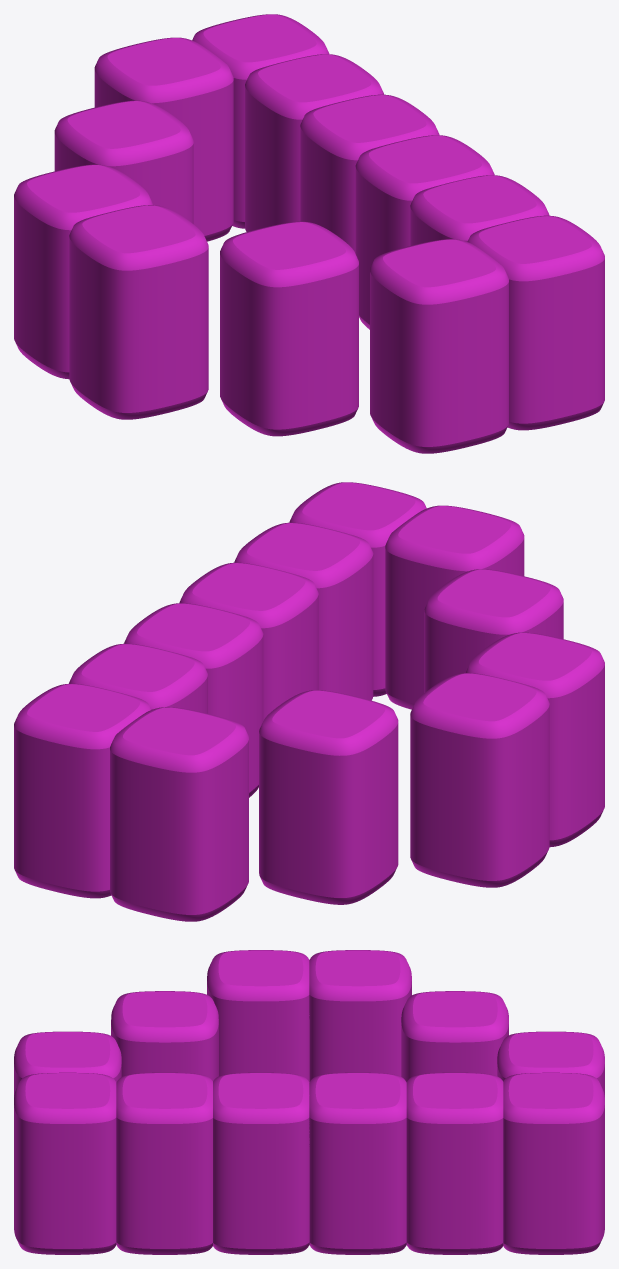
File: Letter_D.fbx
3 renders of one model, top to bottom at view 1: azimuth 30°, elevation 25°; view 2: azimuth 150°, elevation 25°; view 3: azimuth 270°, elevation 25°, orthographic. The views are drawn at different scales.
Visible parts, largest first — view 1: Letter_D; view 2: Letter_D; view 3: Letter_D.
Part boxes in pixels (box(x1,y1,x2,y2)): Letter_D: box(14, 14, 604, 453); Letter_D: box(14, 482, 604, 921); Letter_D: box(14, 950, 604, 1254).
Size of the model in its own units: 0.3465 by 0.14 by 0.5146.
